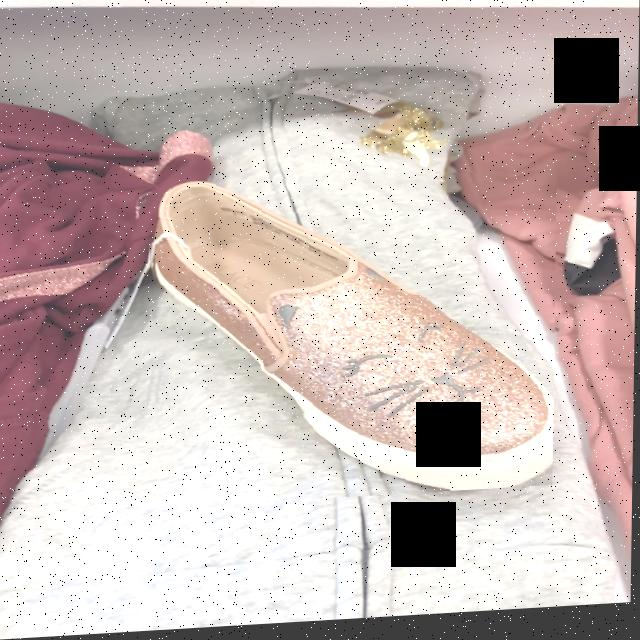shoe: (151, 185, 555, 497)
